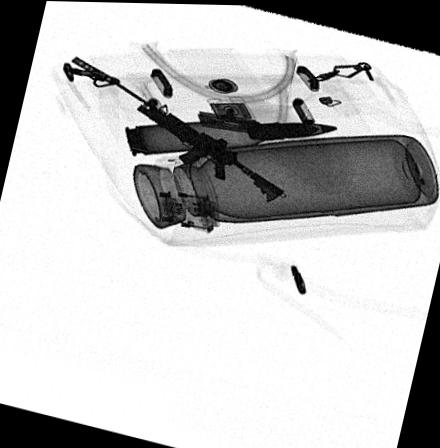Bullet: (123, 118, 340, 155)
Gun: (70, 55, 286, 202)
